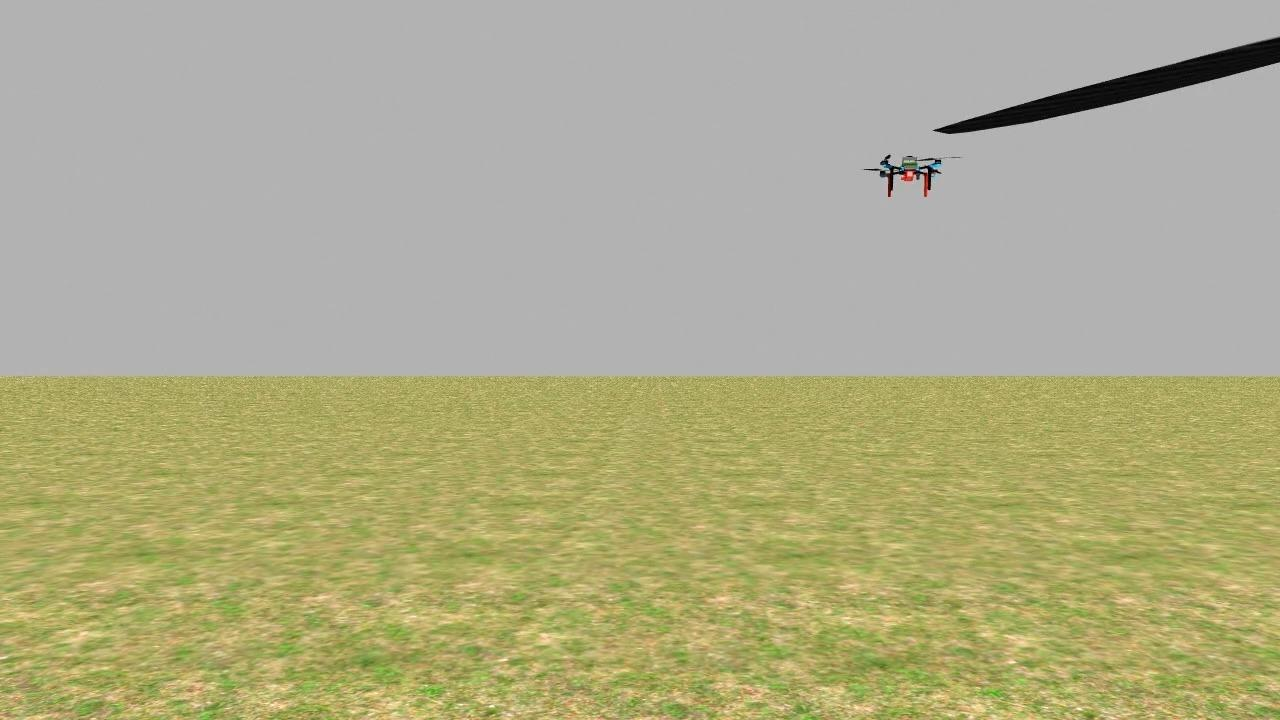UAV: (860, 130, 960, 208)
